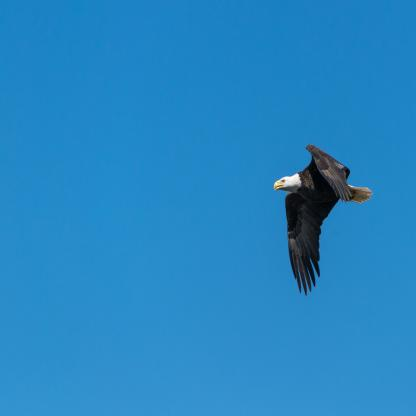bird: (273, 142, 372, 298)
